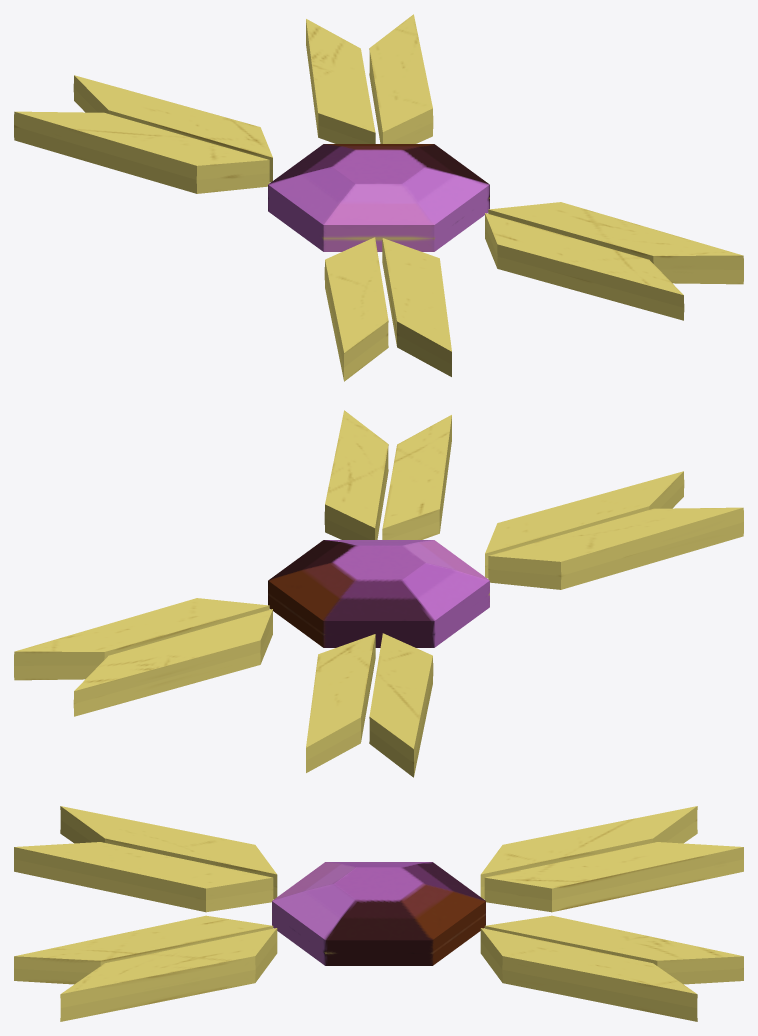
Rendered from Puzzle_Box_Top_Jewels.fbx.
The picture shows the model from 3 angles, top to bottom: view 1: azimuth 30°, elevation 25°; view 2: azimuth 150°, elevation 25°; view 3: azimuth 270°, elevation 25°; orthographic projection. The views are drawn at different scales.
Parts seen in each view (by area): view 1: Top Jewels; view 2: Top Jewels; view 3: Top Jewels.
Boxes of the visible parts, x1,y1,x2,y2 form: Top Jewels: (14, 14, 743, 381); Top Jewels: (14, 410, 743, 777); Top Jewels: (14, 806, 743, 1021).
Size of the model in its own units: 11.72 by 1.75 by 19.19.
